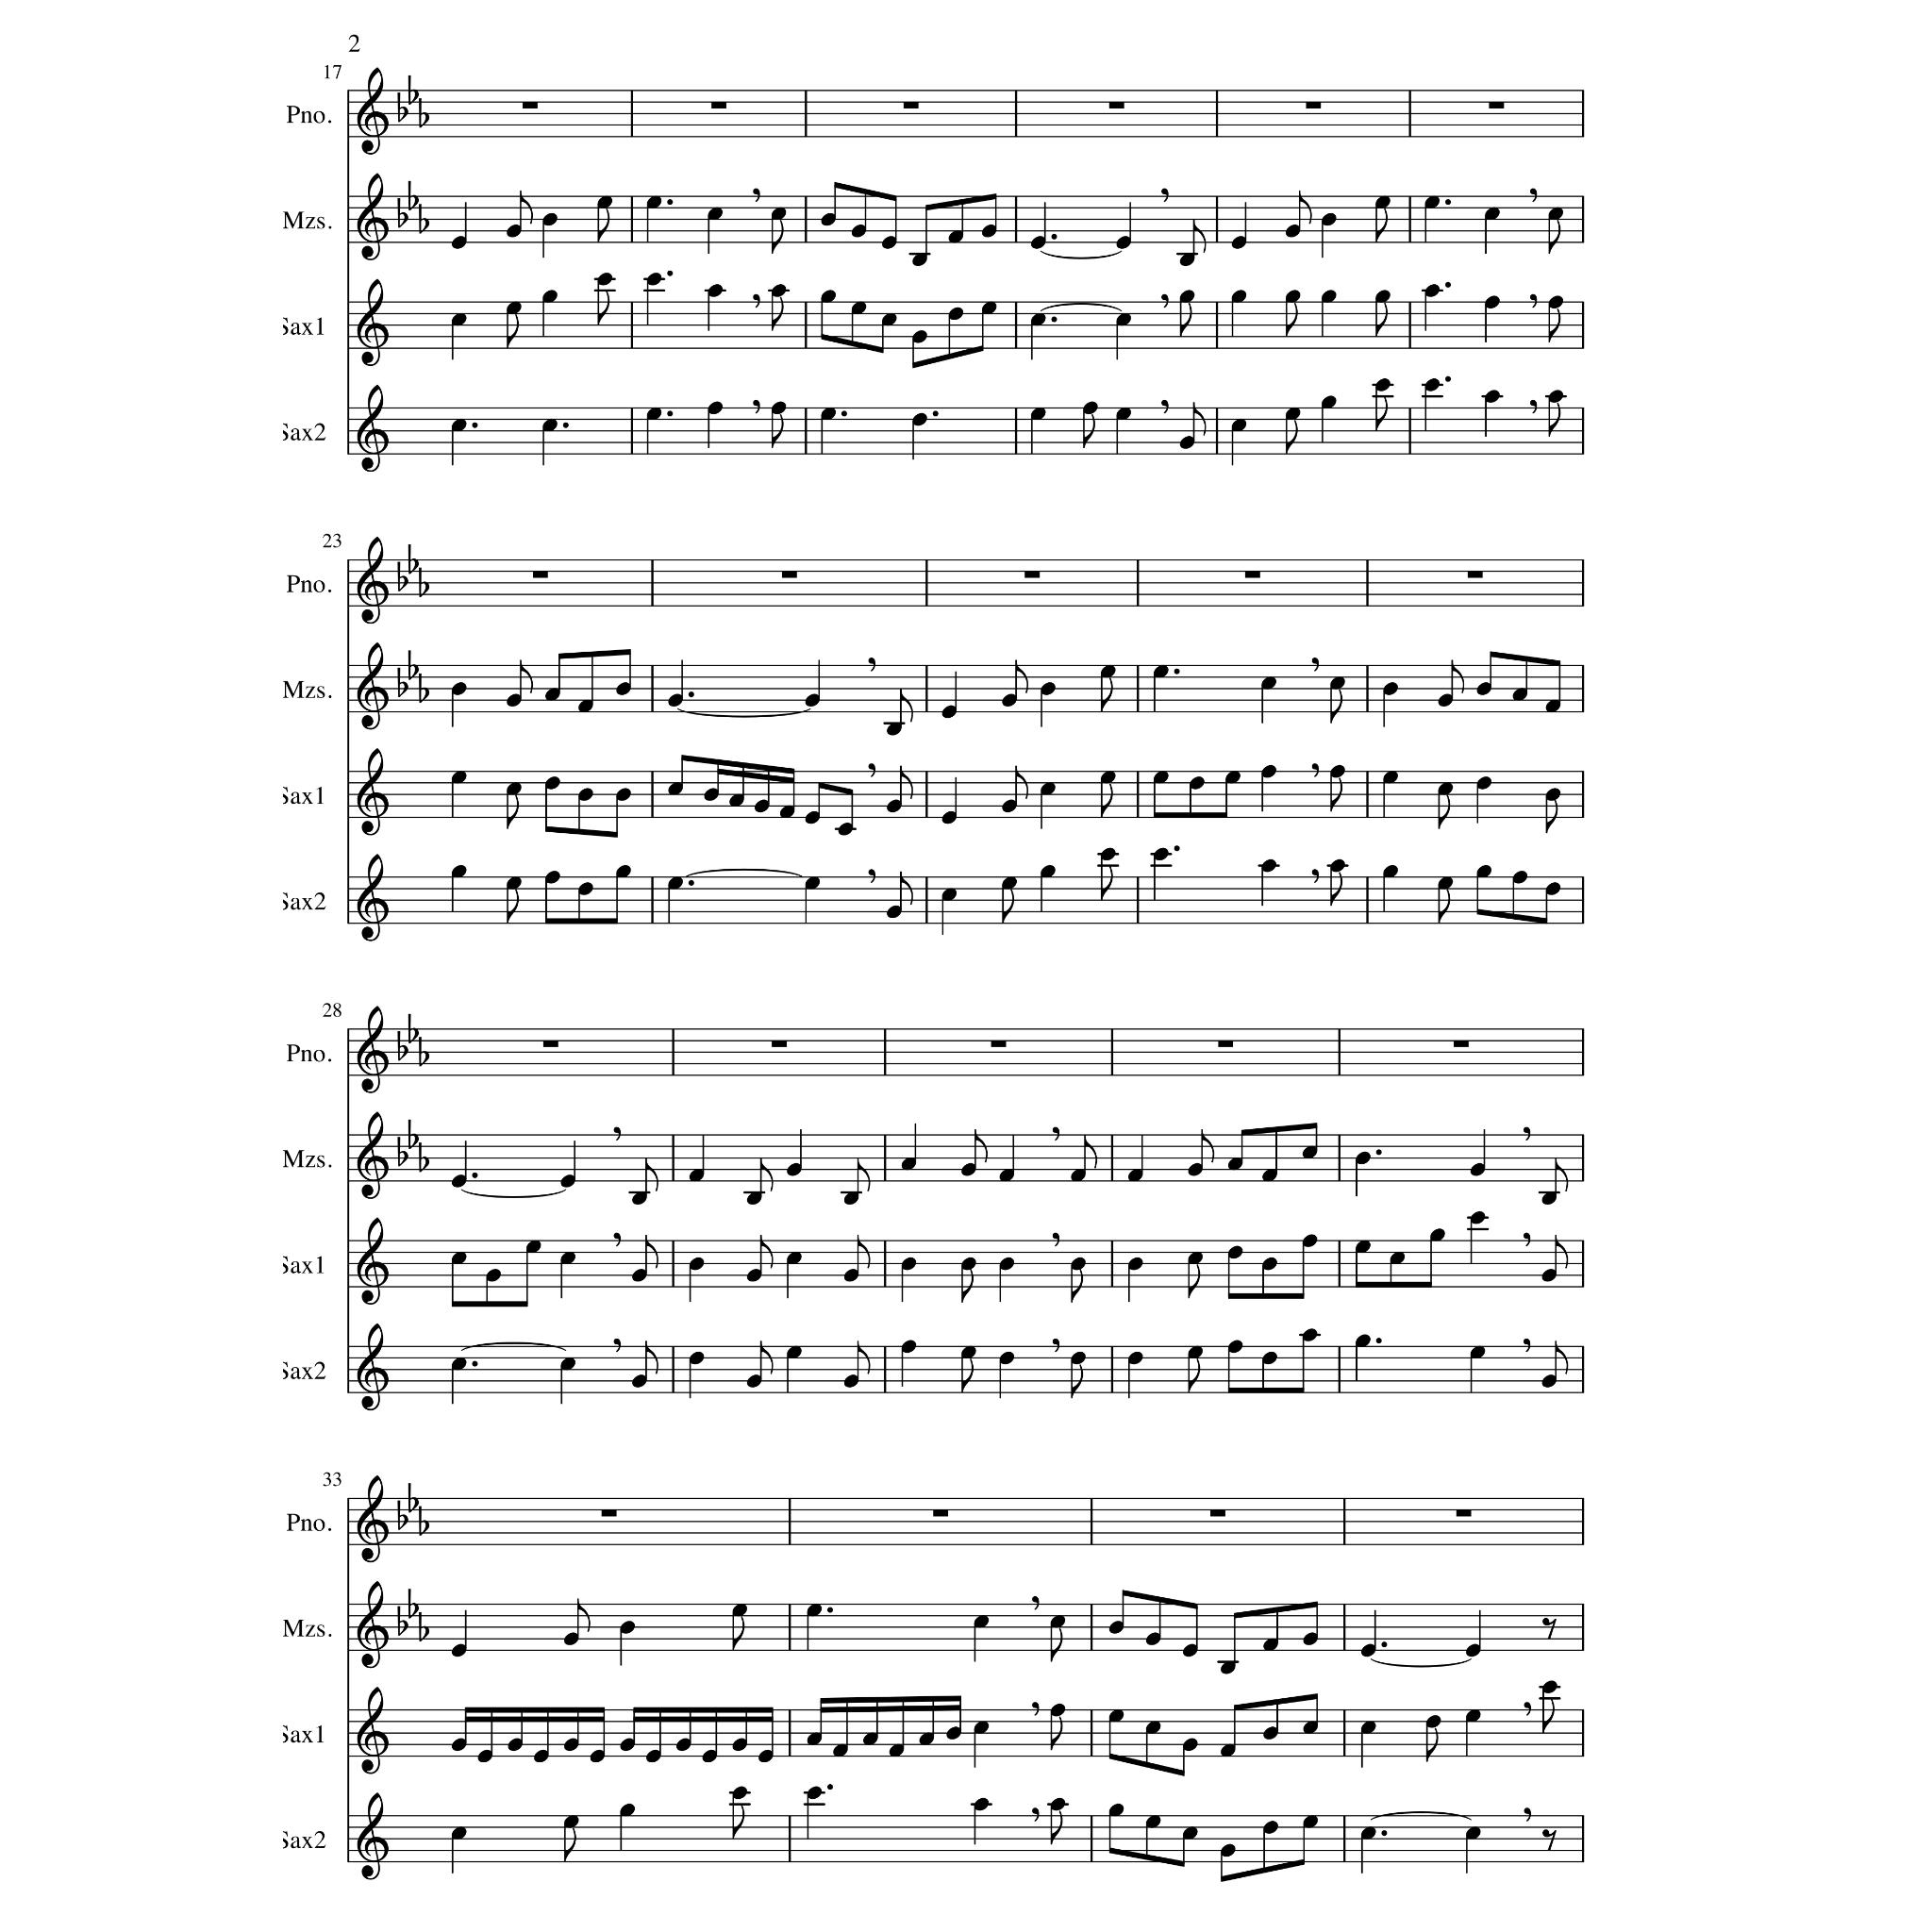flag8thDown: (1285, 419, 1298, 455), (1375, 208, 1389, 243), (1438, 794, 1451, 830), (732, 1615, 745, 1651), (1285, 303, 1298, 337), (1083, 414, 1096, 448), (1179, 303, 1192, 337), (1375, 303, 1389, 337), (1375, 397, 1389, 431), (1330, 690, 1343, 724), (1330, 777, 1343, 811), (1002, 890, 1015, 924), (1545, 799, 1558, 833), (1330, 872, 1343, 906), (1438, 890, 1451, 924), (732, 1805, 745, 1839), (1549, 219, 1560, 255), (1549, 308, 1560, 343), (1549, 402, 1560, 438), (598, 208, 609, 243), (598, 291, 609, 326), (772, 219, 783, 255), (508, 794, 519, 830), (1051, 1715, 1062, 1751), (1543, 1698, 1555, 1734), (564, 1826, 575, 1862), (508, 314, 519, 348), (772, 414, 783, 448), (772, 297, 783, 331), (1102, 677, 1113, 711), (1102, 784, 1113, 818), (1102, 866, 1113, 900), (508, 890, 519, 924), (1189, 1264, 1200, 1298), (1189, 1358, 1200, 1392), (1072, 1364, 1083, 1398), (1072, 1269, 1083, 1303), (962, 1358, 974, 1392), (962, 1269, 974, 1303), (1051, 1810, 1062, 1844), (1426, 1728, 1438, 1762), (1051, 1627, 1062, 1661)
flag8thUp: (1299, 191, 1312, 225), (1193, 220, 1207, 254), (1193, 403, 1207, 437), (520, 191, 533, 225), (1015, 766, 1028, 800), (1015, 660, 1028, 694), (1451, 660, 1464, 694), (520, 660, 533, 694), (900, 766, 913, 800), (900, 872, 913, 906), (900, 690, 913, 724), (1202, 1129, 1215, 1163), (1084, 1135, 1097, 1169), (1556, 1235, 1569, 1269), (1556, 1341, 1569, 1374), (1556, 1158, 1569, 1192), (645, 1158, 658, 1192), (645, 1235, 658, 1269), (645, 1341, 658, 1374), (858, 1341, 871, 1374), (974, 1129, 988, 1163), (760, 1235, 774, 1269), (760, 1341, 774, 1374), (760, 1158, 774, 1192), (858, 1158, 871, 1192), (858, 1235, 871, 1269), (577, 1599, 591, 1633)
gClef: (357, 384, 389, 473), (357, 173, 389, 261), (357, 278, 389, 367), (357, 67, 389, 156), (357, 642, 389, 731), (357, 747, 389, 836), (357, 854, 389, 942), (357, 536, 389, 625), (357, 1111, 389, 1200), (357, 1217, 389, 1306), (357, 1006, 389, 1094), (357, 1323, 389, 1411), (357, 1580, 389, 1669), (357, 1687, 389, 1775), (357, 1791, 389, 1880), (357, 1475, 389, 1562)
noteheadBlack: (1511, 687, 1528, 702), (1511, 870, 1528, 885), (543, 687, 560, 702), (543, 870, 560, 885), (1226, 1245, 1243, 1260), (1187, 1162, 1204, 1177), (1187, 1345, 1204, 1360), (960, 1162, 977, 1177), (960, 1345, 977, 1360), (1424, 283, 1440, 298), (708, 283, 723, 298), (771, 283, 786, 298), (1224, 770, 1240, 785), (1100, 770, 1115, 785), (1153, 770, 1168, 785), (1383, 770, 1398, 785), (451, 770, 466, 785), (1470, 1162, 1485, 1177), (1470, 1345, 1485, 1360), (560, 1357, 575, 1372), (560, 1174, 575, 1189), (451, 1174, 466, 1189), (451, 1357, 466, 1372), (787, 1345, 802, 1360), (787, 1162, 802, 1177), (1230, 419, 1247, 432), (1230, 291, 1247, 304), (1230, 236, 1247, 249), (1321, 213, 1338, 226), (1115, 236, 1132, 249), (1115, 313, 1132, 326), (1115, 408, 1132, 421), (1547, 208, 1564, 221), (1547, 296, 1564, 309), (1547, 391, 1564, 404), (1483, 391, 1500, 404), (1321, 396, 1338, 409), (1483, 208, 1500, 221), (1483, 296, 1500, 309), (1321, 291, 1338, 304), (645, 196, 662, 209), (645, 273, 662, 286), (645, 408, 662, 421), (596, 196, 613, 209), (596, 273, 613, 286), (541, 213, 558, 226), (541, 291, 558, 304), (541, 419, 558, 432), (506, 225, 523, 238), (506, 302, 523, 315), (911, 254, 928, 267), (911, 330, 928, 343), (911, 413, 928, 426), (1260, 676, 1277, 690), (1260, 765, 1277, 778), (1260, 859, 1277, 873), (1040, 682, 1057, 695), (1040, 782, 1057, 795), (1040, 865, 1057, 878), (1475, 865, 1492, 878), (1475, 682, 1492, 695), (1475, 776, 1492, 790), (615, 682, 632, 695), (615, 789, 632, 802), (615, 865, 632, 878), (577, 700, 594, 713), (577, 789, 594, 802), (577, 882, 594, 895), (543, 776, 560, 790), (506, 694, 523, 708), (506, 782, 523, 795), (506, 876, 523, 890), (885, 723, 902, 736), (885, 800, 902, 813), (885, 906, 902, 919), (728, 794, 745, 808), (753, 800, 770, 813), (804, 811, 821, 824), (804, 876, 821, 890), (804, 694, 821, 708), (1226, 1340, 1243, 1353), (1226, 1158, 1243, 1171), (1126, 1352, 1143, 1365), (1126, 1169, 1143, 1182), (1126, 1257, 1143, 1271), (1070, 1352, 1087, 1365), (1187, 1252, 1204, 1265), (1070, 1169, 1087, 1182), (1070, 1257, 1087, 1271), (1389, 1252, 1406, 1265), (485, 1269, 502, 1282), (525, 1240, 541, 1253), (900, 1257, 917, 1271), (900, 1340, 917, 1353), (998, 1169, 1015, 1182), (998, 1257, 1015, 1271), (998, 1352, 1015, 1365), (960, 1257, 977, 1271), (900, 1158, 917, 1171), (745, 1269, 762, 1282), (745, 1192, 762, 1206), (745, 1374, 762, 1388), (1302, 1632, 1319, 1645), (1302, 1721, 1319, 1734), (1262, 1821, 1279, 1834), (1262, 1726, 1279, 1740), (1262, 1639, 1279, 1652), (1108, 1804, 1124, 1817), (1108, 1621, 1124, 1634), (1108, 1709, 1124, 1723), (1424, 1715, 1441, 1728), (1302, 1815, 1319, 1828), (589, 1750, 606, 1763), (619, 1621, 636, 1634), (619, 1739, 636, 1752), (619, 1804, 636, 1817), (532, 1750, 549, 1763), (945, 1726, 962, 1740), (832, 1743, 849, 1757), (1049, 1798, 1066, 1811), (1049, 1615, 1066, 1628), (1049, 1704, 1066, 1717), (806, 1604, 823, 1617), (806, 1732, 823, 1745), (806, 1786, 823, 1799), (1285, 225, 1300, 238), (1285, 291, 1300, 304), (1285, 408, 1300, 421), (1083, 402, 1098, 415), (1179, 291, 1194, 304), (1179, 436, 1194, 449), (1179, 254, 1194, 267), (1424, 196, 1440, 209), (1424, 378, 1440, 391), (1375, 196, 1391, 209), (1375, 291, 1391, 304), (1375, 378, 1391, 391), (708, 208, 723, 221), (708, 402, 723, 415), (1030, 408, 1045, 421), (451, 236, 466, 249), (451, 313, 466, 326), (451, 419, 466, 432), (881, 313, 896, 326), (851, 225, 866, 238), (851, 302, 866, 315), (771, 208, 786, 221), (881, 236, 896, 249), (981, 225, 996, 238), (981, 302, 996, 315), (1030, 236, 1045, 249), (1030, 313, 1045, 326), (948, 230, 963, 243), (948, 308, 963, 321), (821, 291, 836, 304), (821, 213, 836, 226), (821, 408, 836, 421), (771, 402, 786, 415), (1189, 776, 1204, 790), (1330, 859, 1345, 873), (1002, 876, 1017, 890), (1330, 676, 1345, 690), (1330, 765, 1345, 778), (1100, 665, 1115, 678), (1100, 848, 1115, 861), (1153, 665, 1168, 678), (1153, 848, 1168, 861), (1545, 789, 1560, 802), (1545, 882, 1560, 895), (1545, 700, 1560, 713), (1383, 682, 1398, 695), (1383, 865, 1398, 878), (1438, 876, 1453, 890), (1438, 694, 1453, 708), (1438, 782, 1453, 795), (1002, 800, 1017, 813), (668, 694, 683, 708), (668, 782, 683, 795), (668, 876, 683, 890), (451, 682, 466, 695), (451, 865, 466, 878), (838, 823, 853, 836), (1002, 694, 1017, 708), (941, 706, 957, 719), (941, 811, 957, 824), (941, 889, 957, 902), (704, 789, 719, 802), (779, 806, 794, 819), (1302, 1328, 1317, 1341), (1302, 1235, 1317, 1248), (1302, 1145, 1317, 1158), (1262, 1352, 1277, 1365), (1262, 1257, 1277, 1271), (1262, 1169, 1277, 1182), (1541, 1192, 1557, 1206), (1541, 1269, 1557, 1282), (1541, 1374, 1557, 1388), (1355, 1152, 1370, 1165), (1355, 1240, 1370, 1253), (1355, 1335, 1370, 1348), (1430, 1228, 1445, 1241), (1470, 1211, 1485, 1224), (632, 1269, 647, 1282), (632, 1374, 647, 1388), (560, 1252, 575, 1265), (632, 1192, 647, 1206), (689, 1257, 704, 1271), (689, 1169, 704, 1182), (689, 1352, 704, 1365), (451, 1252, 466, 1265), (787, 1252, 802, 1265), (843, 1374, 858, 1388), (843, 1269, 858, 1282), (843, 1192, 858, 1206), (1221, 1661, 1236, 1674), (1221, 1743, 1236, 1757), (1221, 1843, 1236, 1857), (1183, 1644, 1198, 1657), (1183, 1739, 1198, 1752), (1183, 1826, 1198, 1840), (1145, 1632, 1160, 1645), (1145, 1721, 1160, 1734), (1145, 1815, 1160, 1828), (1541, 1681, 1557, 1694), (1360, 1826, 1375, 1840), (1360, 1721, 1375, 1734), (1360, 1644, 1375, 1657), (1466, 1644, 1481, 1657), (1466, 1709, 1481, 1723), (1466, 1826, 1481, 1840), (564, 1632, 579, 1645), (564, 1739, 579, 1752), (564, 1815, 579, 1828), (702, 1750, 717, 1763), (675, 1739, 691, 1752), (732, 1604, 747, 1617), (732, 1739, 747, 1752), (732, 1786, 747, 1799), (645, 1750, 660, 1763), (508, 1739, 523, 1752), (477, 1750, 492, 1763), (451, 1826, 466, 1840), (451, 1739, 466, 1752), (451, 1644, 466, 1657), (889, 1743, 904, 1757), (919, 1732, 934, 1745), (862, 1732, 877, 1745), (974, 1798, 989, 1811), (974, 1721, 989, 1734), (974, 1615, 989, 1628), (758, 1750, 774, 1763)
rest8th: (1541, 1617, 1557, 1640), (1541, 1829, 1557, 1852)
restWhole: (1108, 102, 1124, 109), (902, 102, 919, 109), (521, 102, 538, 109), (1217, 1041, 1234, 1048), (770, 1041, 787, 1048), (541, 1041, 558, 1048), (1453, 1041, 1470, 1048), (1209, 1509, 1226, 1517), (932, 1509, 949, 1517), (600, 1509, 617, 1517), (1455, 1509, 1472, 1517), (711, 102, 726, 109), (1306, 102, 1321, 109), (1489, 102, 1504, 109), (1245, 571, 1260, 578), (1024, 571, 1040, 578), (781, 571, 796, 578), (532, 571, 547, 578), (1468, 571, 1483, 578), (991, 1041, 1006, 1048)
